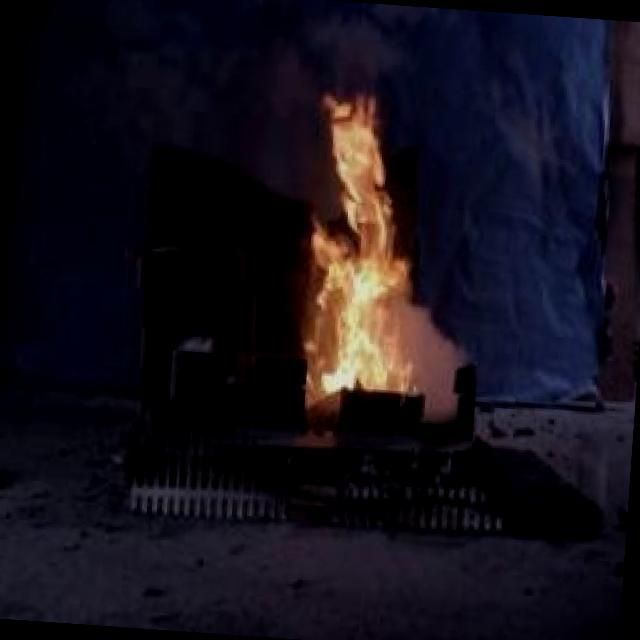fire: (274, 69, 467, 418)
